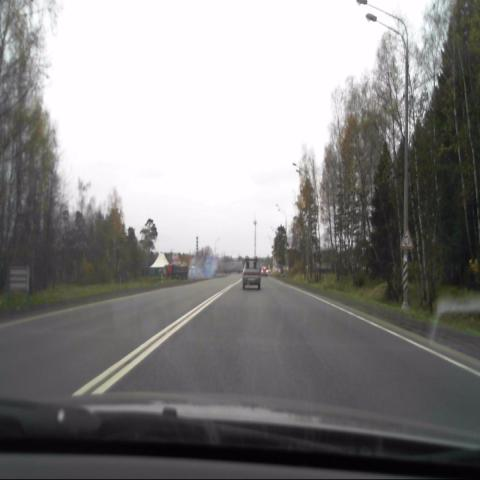1_7: (398, 224, 416, 251)
